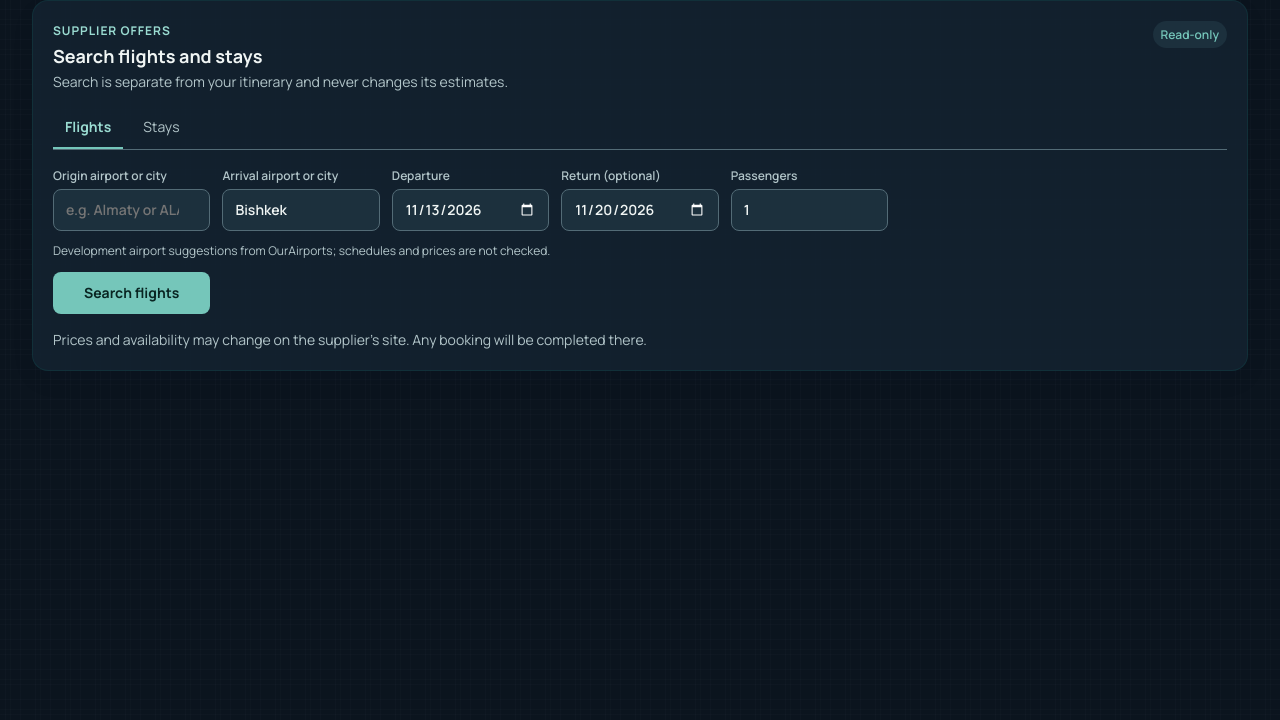
Scenario: shows clearly labeled demo examples without a supplier handoff
Type "ALA" into the field labelled "Origin airport or city".
click(132, 210); type("ALA")  # box [53,189,210,231]
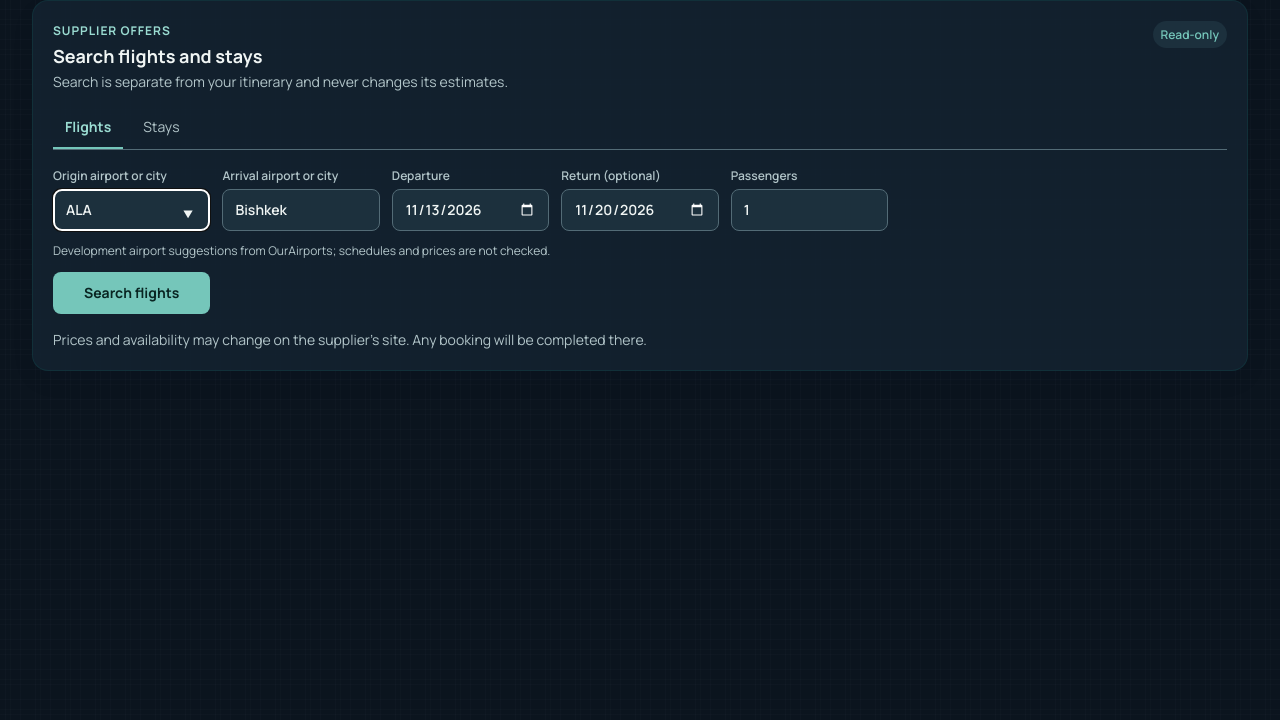
Click the button "Search flights".
click(132, 293)  # box [53,272,210,314]
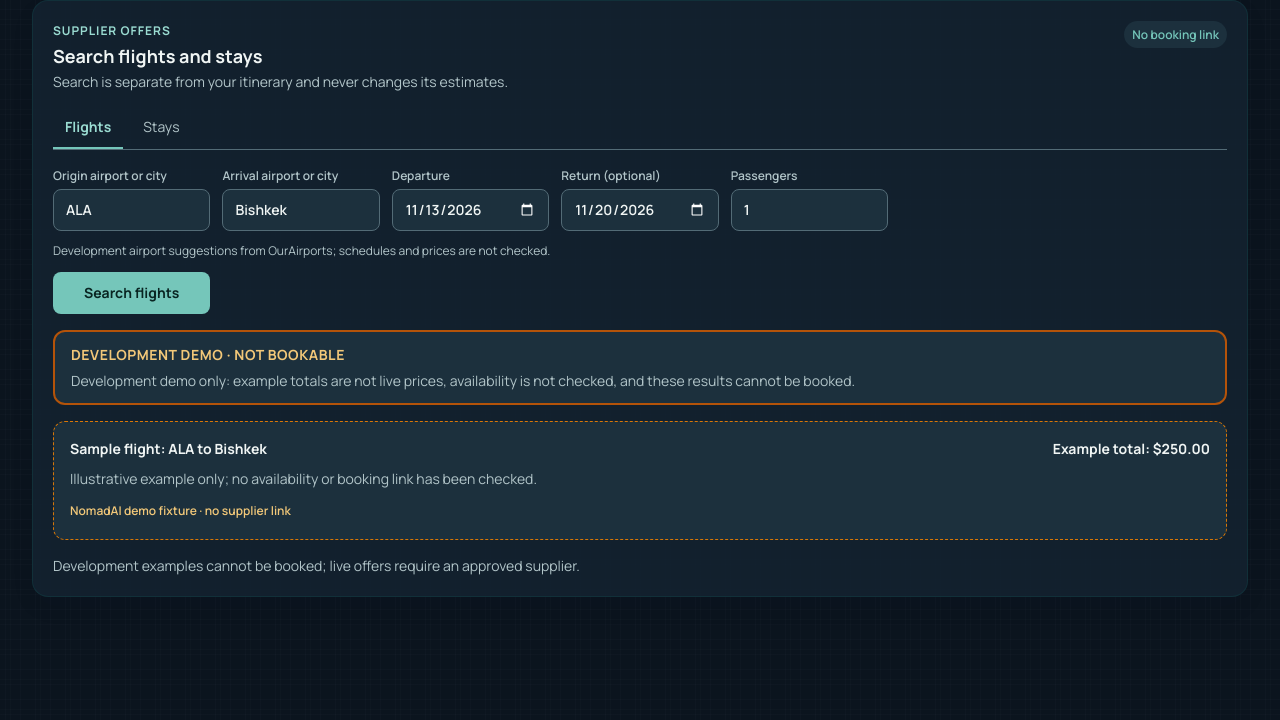
expect the text "DEVELOPMENT DEMO · NOT BOOKABLE" is shown: met, box [71,345,345,364]
expect the text "Sample flight: ALA to Bishkek" is shown: met, box [70,438,267,461]
expect the text "Example total: $250.00" is shown: met, box [1053,438,1210,461]
